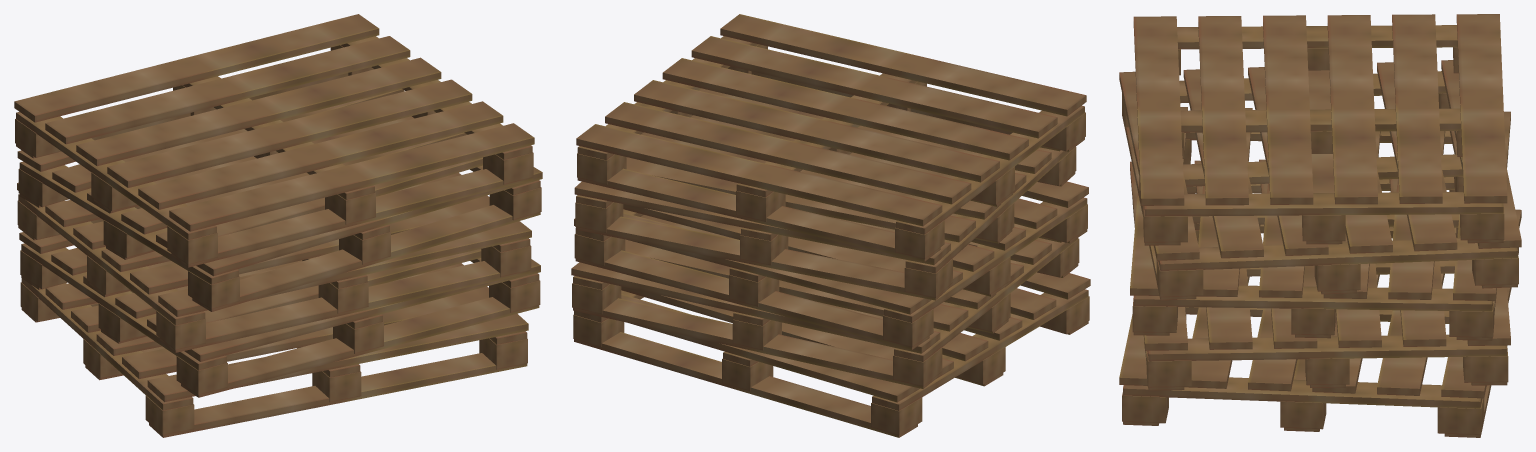
Rendered from pallet_stack.obj.
3 renders of one model, left to right at view 1: azimuth 30°, elevation 25°; view 2: azimuth 150°, elevation 25°; view 3: azimuth 270°, elevation 25°, orthographic. The views are drawn at different scales.
Visible parts, largest first — view 1: pallet_stack; view 2: pallet_stack; view 3: pallet_stack.
Part boxes in pixels (box(x1,y1,x2,y2)): pallet_stack: box(14, 14, 542, 437); pallet_stack: box(571, 14, 1090, 437); pallet_stack: box(1119, 14, 1521, 437).
Bounding box in the file's own units: 1.31 × 0.72 × 1.12.
1 material, 1 textured.
